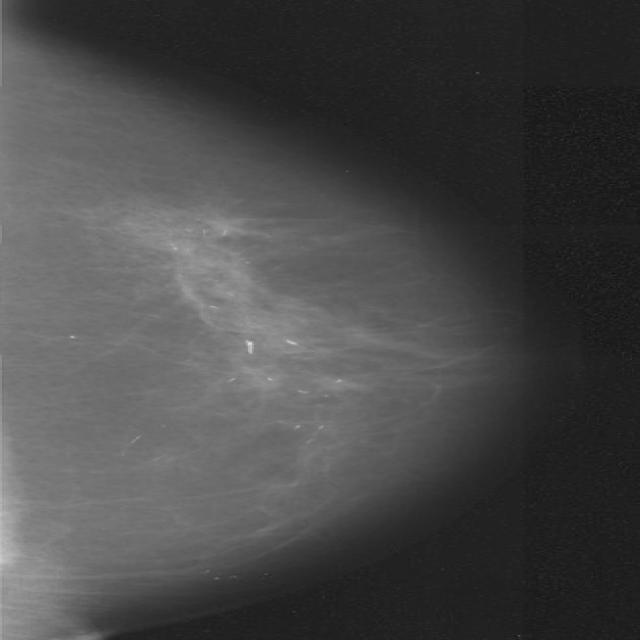tumour: (128, 203, 248, 256)
